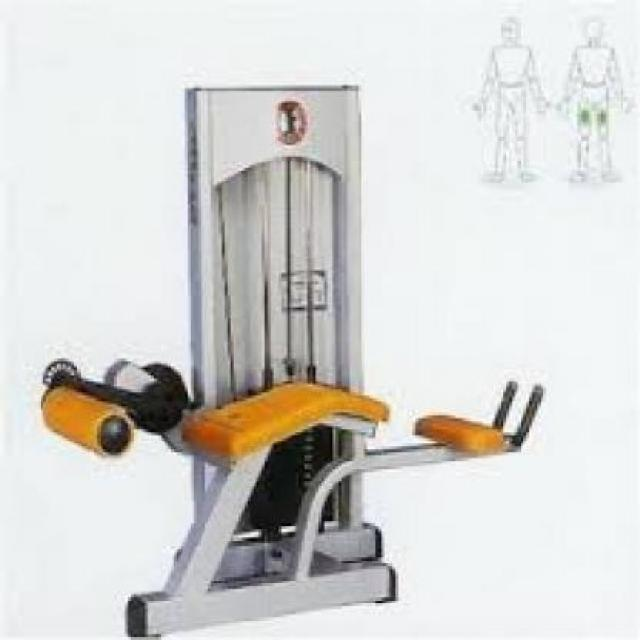reg curl machine: (34, 81, 543, 640)
